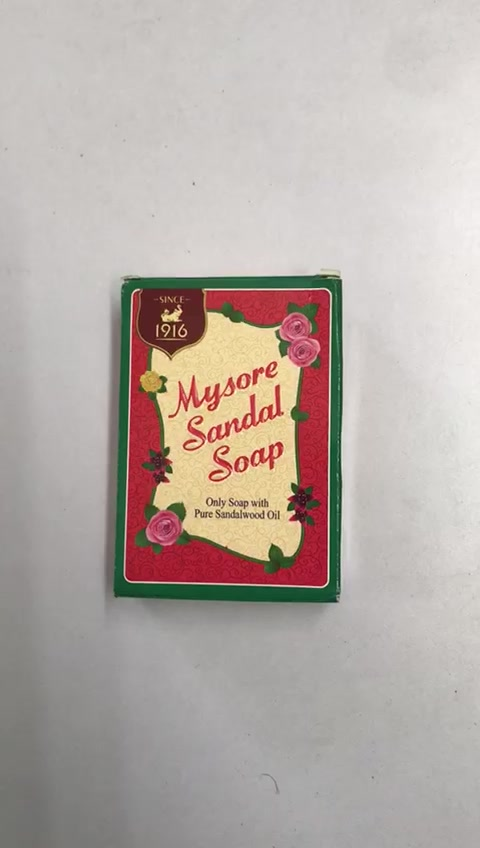mysoresandalsoap: (112, 274, 341, 602)
